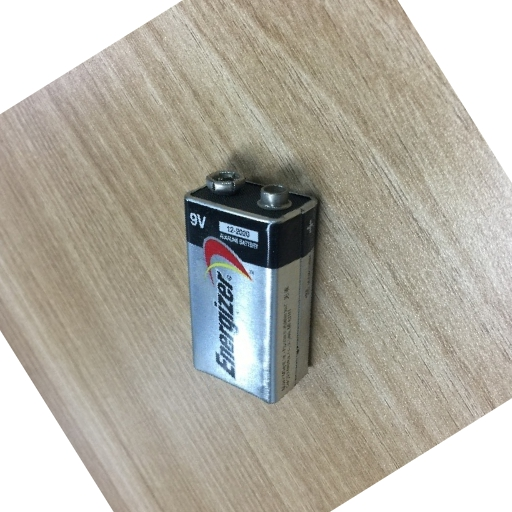Battery_3: (168, 147, 335, 422)
